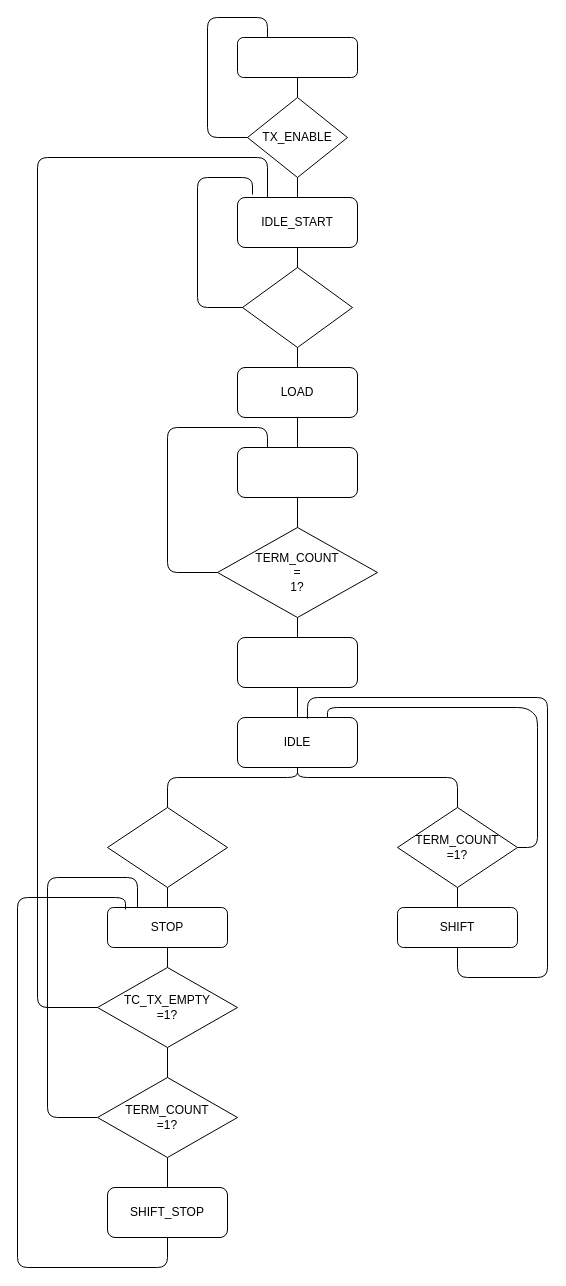
This 566x1286 diagram has some shape labels left out. Each missing label, with the centre of its shape:
"FORCE_0" goes at point 297,472.
"RESET" goes at point 297,57.
"RESET_COUNTER" goes at point 297,662.
"TX_EMPTY =1?" goes at point 167,847.
"TX_EMPTY_ACK" goes at point 297,307.
